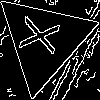X: (19, 15, 70, 58)
